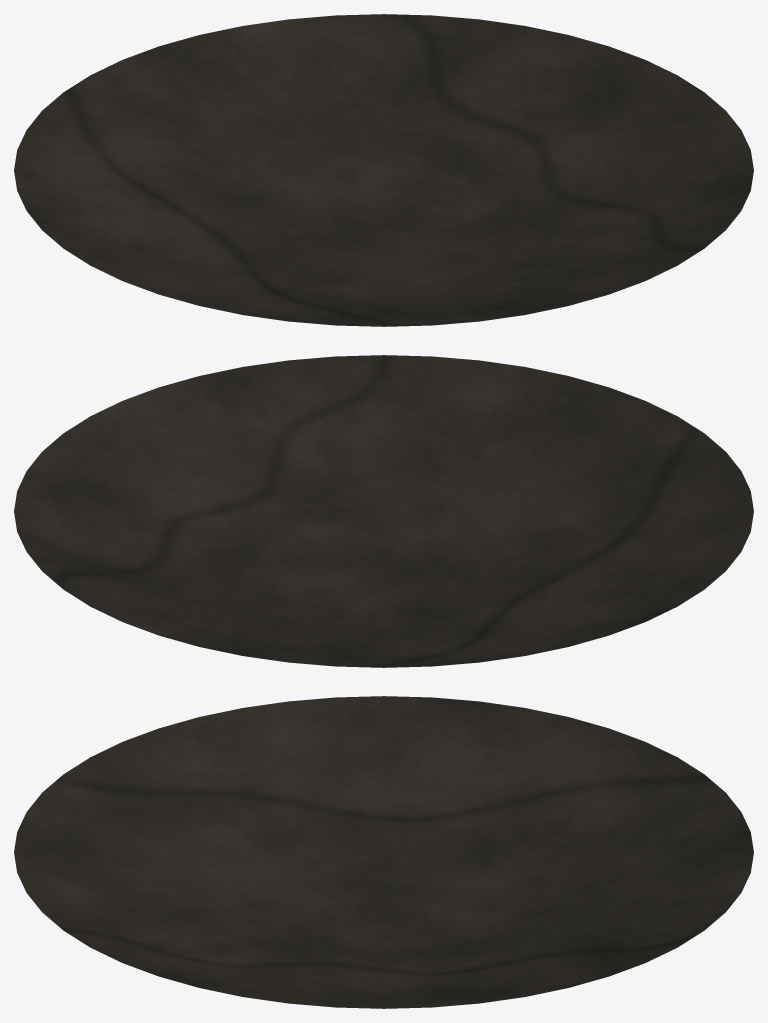
The model's file is SH_Pothole_1p1m.obj.
3 renders of one model, top to bottom at view 1: azimuth 30°, elevation 25°; view 2: azimuth 150°, elevation 25°; view 3: azimuth 270°, elevation 25°, orthographic.
Visible parts, largest first — view 1: SH_Pothole_1p1m; view 2: SH_Pothole_1p1m; view 3: SH_Pothole_1p1m.
Boxes of the visible parts, x1,y1,x2,y2 form: SH_Pothole_1p1m: (14,14,753,326); SH_Pothole_1p1m: (14,355,753,667); SH_Pothole_1p1m: (14,696,753,1008).
Bounding box in the file's own units: 1.1 × 0.085 × 1.1.
1 material, 1 textured.
